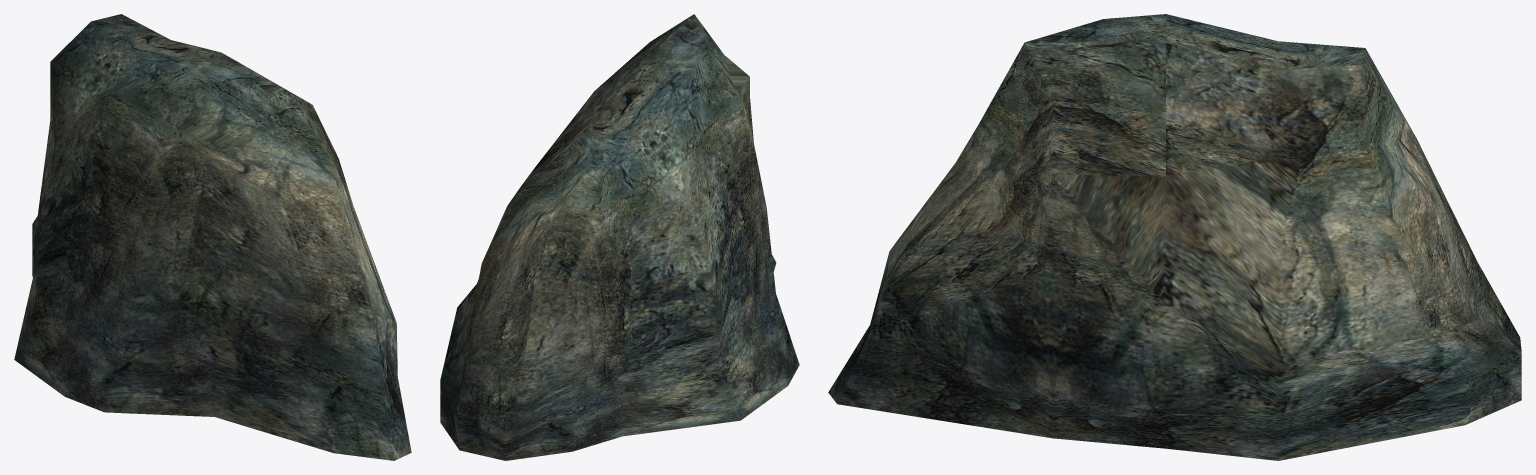
Rendered from mound_light_lrg.fbx.
3 views of the same model, side by side, from view 1: azimuth 30°, elevation 25°; view 2: azimuth 150°, elevation 25°; view 3: azimuth 270°, elevation 25° (orthographic). The views are drawn at different scales.
Parts seen in each view (by area): view 1: lod_high; view 2: lod_high; view 3: lod_high.
Part boxes in pixels (x1=…): lod_high: x1=14, y1=14, x2=411, y2=460; lod_high: x1=440, y1=14, x2=799, y2=460; lod_high: x1=828, y1=14, x2=1521, y2=460.
Bounding box in the file's own units: 24809 × 24331 × 44299.
Materials: 1 (1 with a texture image).
